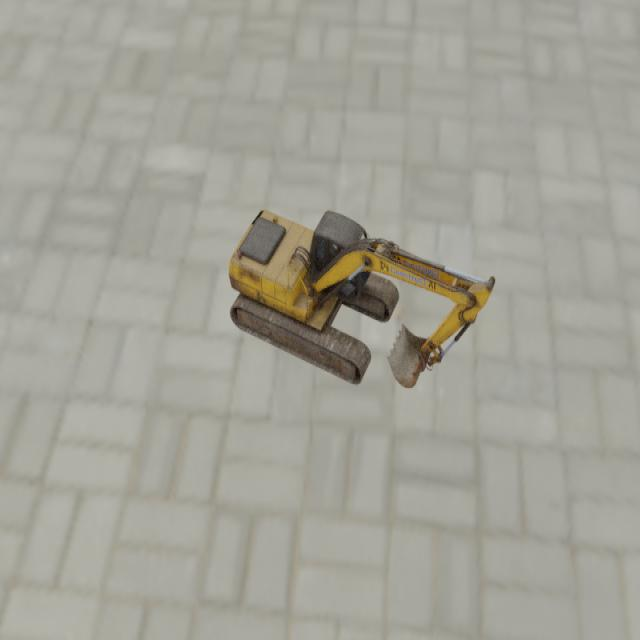excavator: (229, 208, 496, 388)
